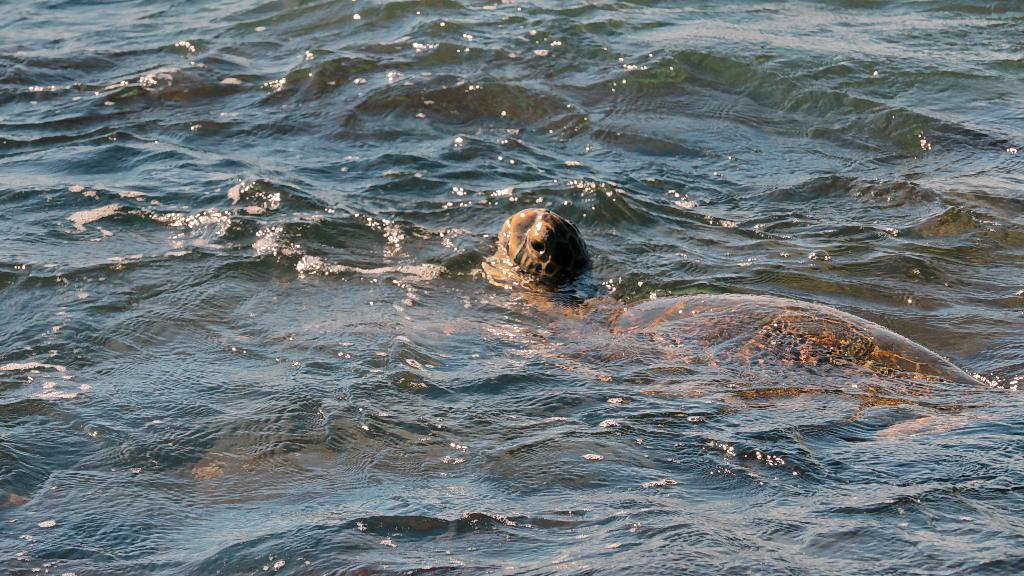Sea turtles: (470, 206, 1024, 441)
